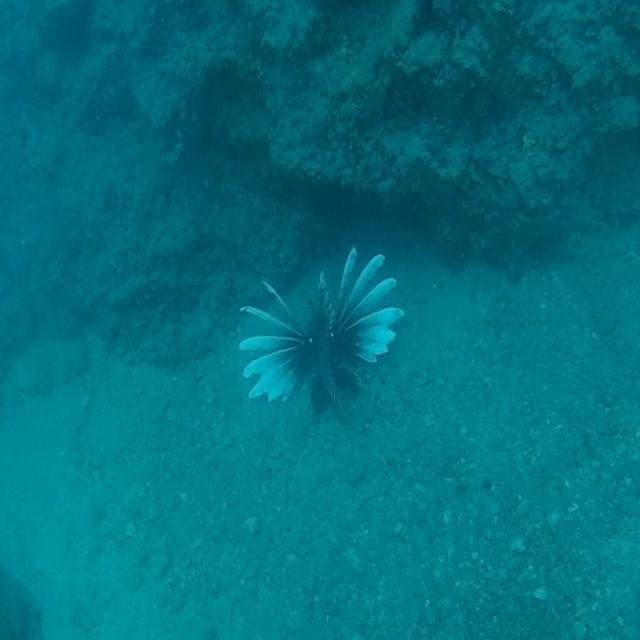Aslan Baligi: (237, 244, 404, 412)
